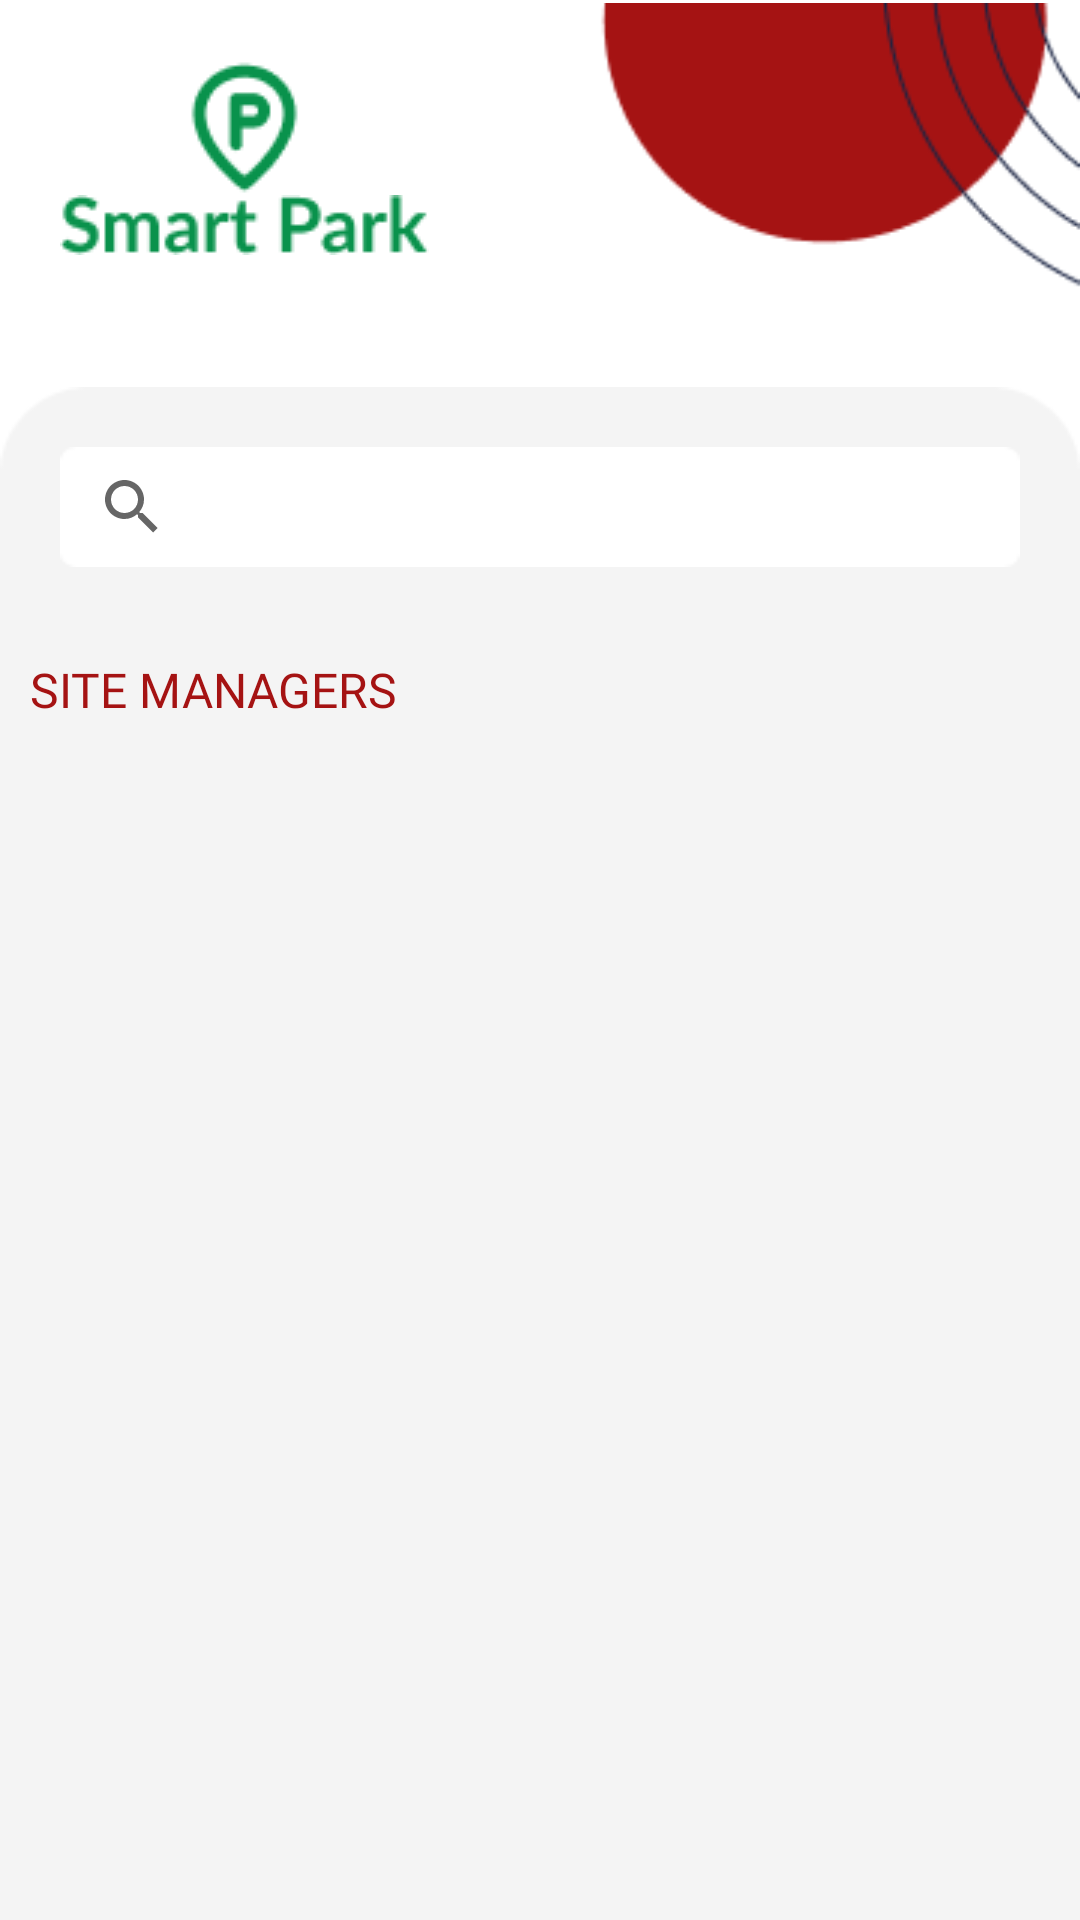

Icons on this 1080 x 1920 Android screen, each with its box as (x1, y1, x2, y2):
parking: (191, 63, 298, 192)
